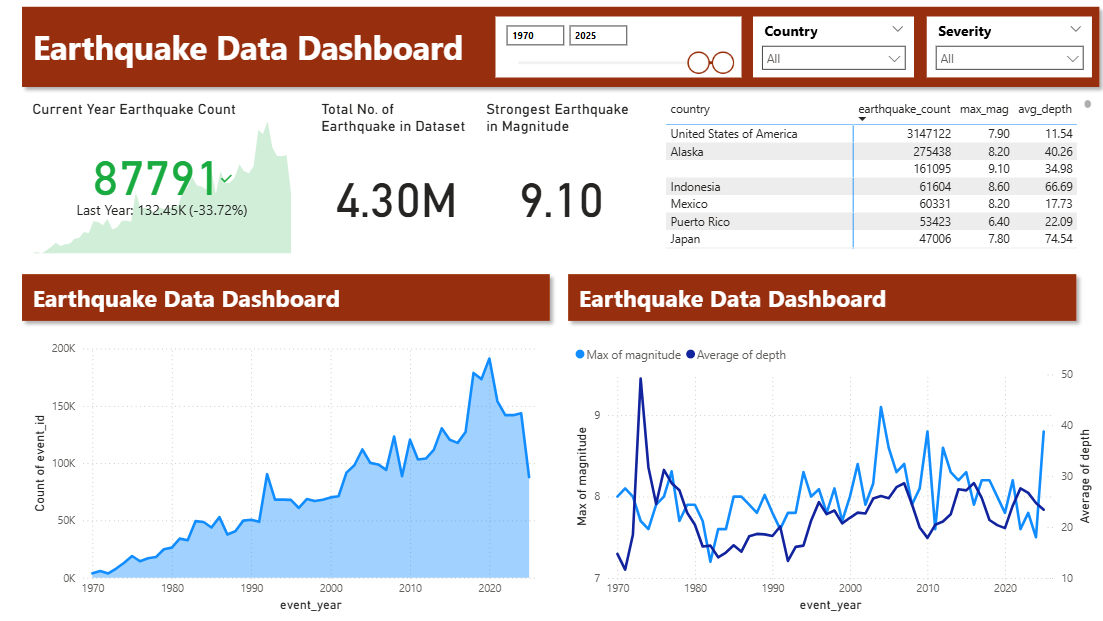

The dashboard page shown, as its layout file describes it:
{"tool":"powerbi","page":{"name":"Page 1","canvas":[1280,720],"ordinal":0},"visuals":[{"type":"shape","box":[18.7,0,1248.9,109.5],"z":0},{"type":"shape","box":[18.7,306,620.7,70.9],"z":1000},{"type":"shape","box":[643.1,306,598.3,70.9],"z":2000},{"type":"stackedAreaChart","fields":{"Y":["CountNonNull(fact_earthquake_data.event_id)"],"Category":["fact_earthquake_data.event_year"],"Series":["fact_earthquake_data.severity"]},"box":[33.6,385.6,590.9,319.7],"z":3000},{"type":"slicer","fields":{"Values":["fact_earthquake_data.event_year"]},"box":[568.5,19.9,281.1,69.7],"z":4000},{"type":"slicer","fields":{"Values":["fact_earthquake_data.country"]},"box":[863.3,19.9,184.1,69.7],"z":5000},{"type":"card","title":"Total No. of Earthquake in Dataset","fields":{"Values":["CountNonNull(fact_earthquake_data.event_id)","select"]},"box":[364.5,115.9,181.6,180.4],"z":6000},{"type":"card","title":"Strongest Earthquake in Magnitude","fields":{"Values":["Max(fact_earthquake_data.magnitude)","select"]},"box":[552.3,115.9,181.6,180.4],"z":7000},{"type":"lineChart","fields":{"Category":["fact_earthquake_data.event_year"],"Y":["Max(fact_earthquake_data.magnitude)"],"Y2":["Avg(fact_earthquake_data.depth)"]},"box":[654.3,385.6,600.8,319.7],"z":8000},{"type":"slicer","fields":{"Values":["fact_earthquake_data.severity"]},"box":[1061.1,19.9,189.1,69.7],"z":9000},{"type":"pivotTable","fields":{"Rows":["fact_earthquake_data.country"],"Values":["fact_earthquake_data.earthquake_count","fact_earthquake_data.max_mag","fact_earthquake_data.avg_depth"]},"box":[758.8,109.5,496.3,180.4],"z":10000},{"type":"kpi","title":"Current Year Earthquake Count","fields":{"Indicator":["CountNonNull(fact_earthquake_data.event_id)"],"TrendLine":["fact_earthquake_data.event_year"],"Goal":["fact_earthquake_data.EQ Target"]},"box":[33.6,115.9,306,180.4],"z":11000}]}

Visuals, with their boxes in screenshot pixels (x1, y1, x2, y2), scaled from the page's 1280x720 canvas onto the 1103x621 screenshot:
shape: (x1=16, y1=0, x2=1092, y2=94)
shape: (x1=16, y1=264, x2=551, y2=325)
shape: (x1=554, y1=264, x2=1070, y2=325)
stackedAreaChart - CountNonNull(fact_earthquake_data.event_id) x fact_earthquake_data.event_year: (x1=29, y1=333, x2=538, y2=608)
slicer - fact_earthquake_data.event_year: (x1=490, y1=17, x2=732, y2=77)
slicer - fact_earthquake_data.country: (x1=744, y1=17, x2=903, y2=77)
"Total No. of Earthquake in Dataset" card: (x1=314, y1=100, x2=471, y2=256)
"Strongest Earthquake in Magnitude" card: (x1=476, y1=100, x2=632, y2=256)
lineChart - fact_earthquake_data.event_year x Max(fact_earthquake_data.magnitude): (x1=564, y1=333, x2=1082, y2=608)
slicer - fact_earthquake_data.severity: (x1=914, y1=17, x2=1077, y2=77)
pivotTable - fact_earthquake_data.country x fact_earthquake_data.earthquake_count: (x1=654, y1=94, x2=1082, y2=250)
"Current Year Earthquake Count" kpi: (x1=29, y1=100, x2=293, y2=256)
